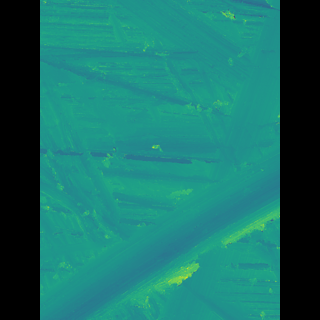Loch: (69, 144, 250, 320), (114, 0, 230, 98)
